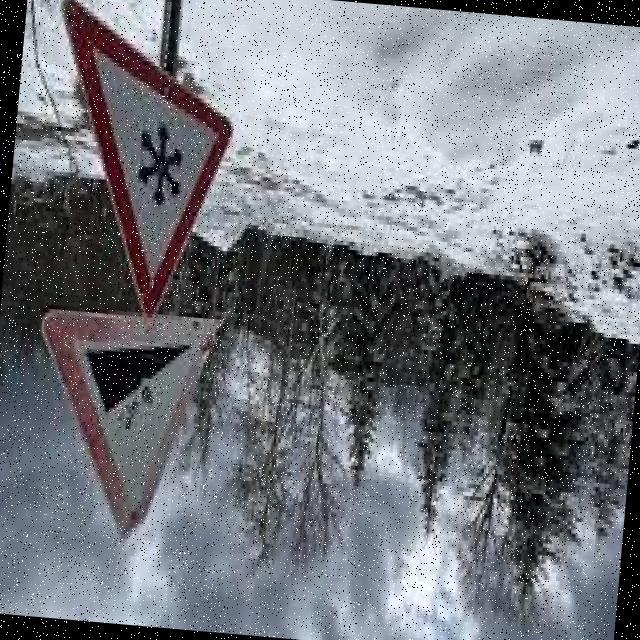snow_warning: (30, 0, 253, 325)
